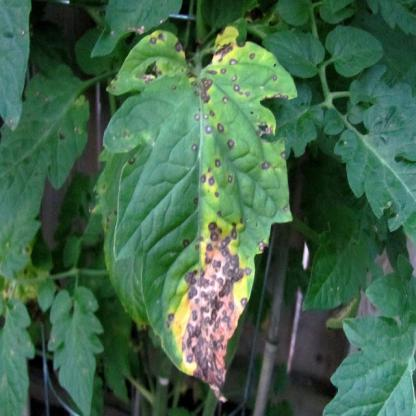potato leaf early blight: (95, 16, 299, 402)
